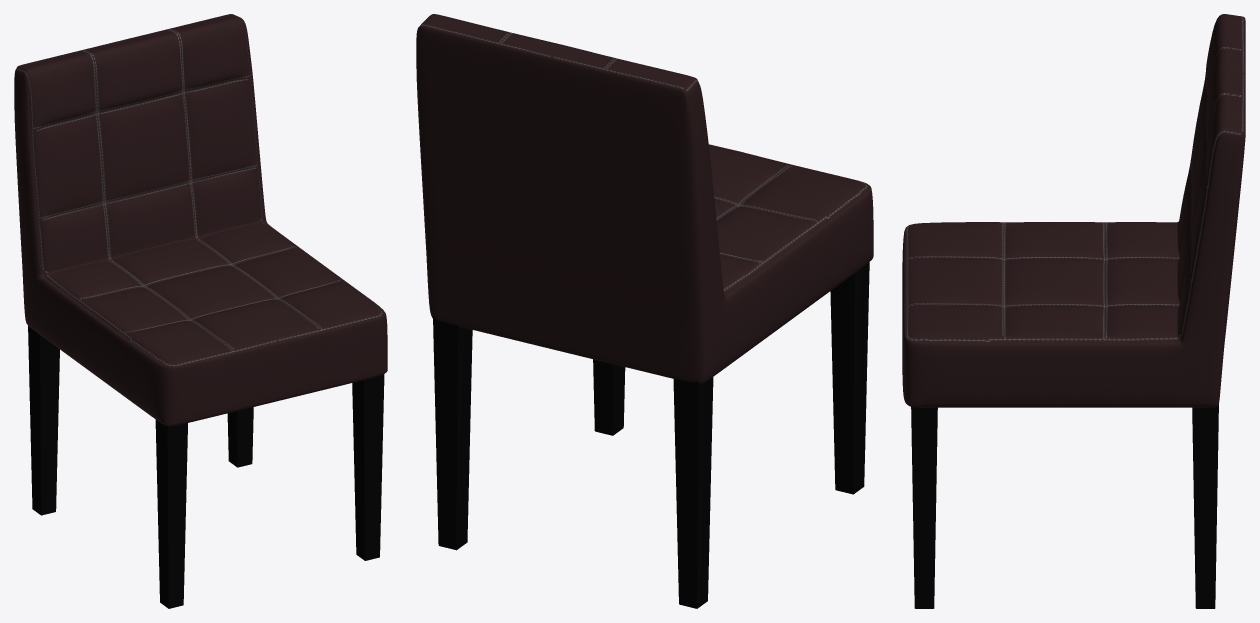
File: chair_08_03.001.fbx
The picture shows the model from 3 angles, left to right: view 1: azimuth 30°, elevation 25°; view 2: azimuth 150°, elevation 25°; view 3: azimuth 270°, elevation 25°; orthographic projection. The views are drawn at different scales.
Visible parts, largest first — view 1: chair_08_03.001; view 2: chair_08_03.001; view 3: chair_08_03.001.
Part boxes in pixels (x1,y1,x2,y2): chair_08_03.001: (14,14,387,608); chair_08_03.001: (416,14,873,608); chair_08_03.001: (902,14,1245,608).
Size of the model in its own units: 45.76 by 82.78 by 53.51.
Materials: 1 (1 with a texture image).
